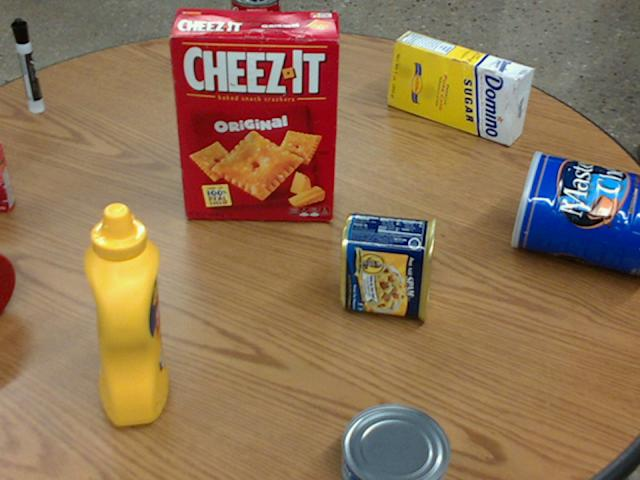cracker_box: (170, 9, 341, 217)
gelatin_box: (0, 142, 16, 210)
large_marker: (12, 19, 44, 112)
master_chef_can: (510, 150, 639, 276)
mug: (0, 250, 17, 315)
mustard_bottle: (83, 203, 168, 424)
potted_meat_can: (340, 212, 436, 321)
sugar_box: (388, 30, 535, 144)
tomato_soup_can: (231, 0, 281, 72)
tuna_fish_can: (339, 403, 448, 479)
